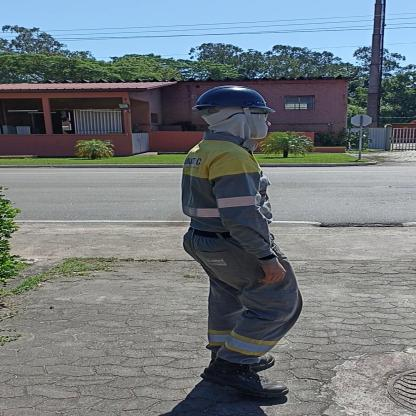Balaclava: (203, 109, 272, 140)
Capacete: (197, 83, 274, 110)
